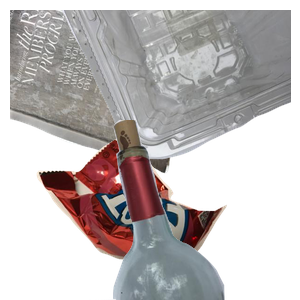glass: (89, 120, 300, 300)
paper: (10, 10, 222, 176)
plastic: (60, 10, 300, 162)
trash: (34, 136, 253, 300)
